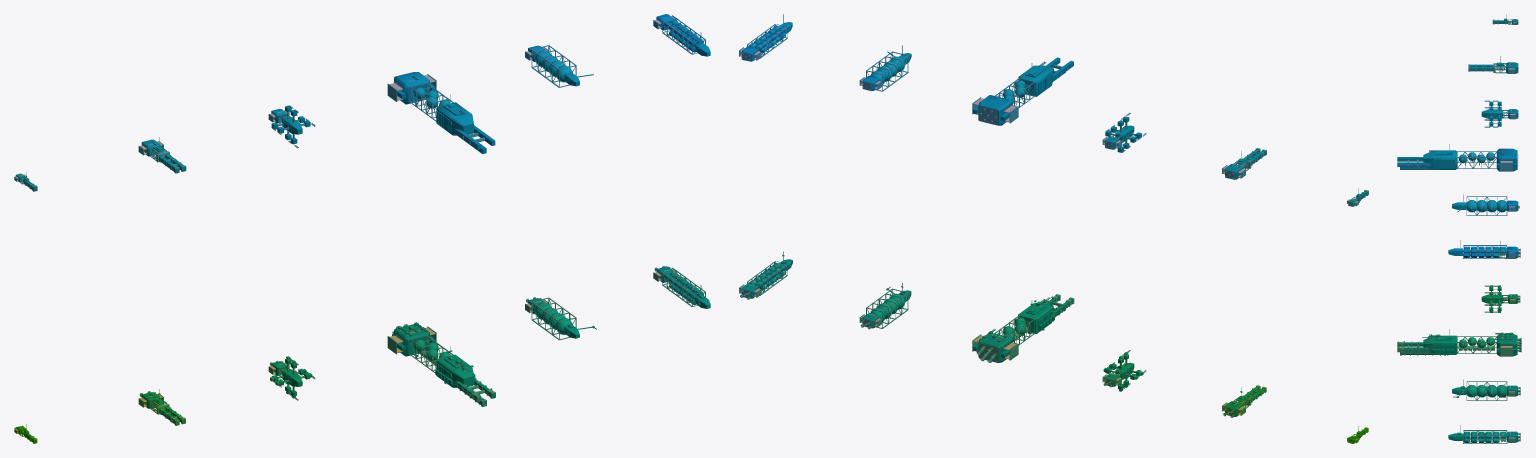
File: boreal-ships.glb
3 views of the same model, side by side, from view 1: azimuth 30°, elevation 25°; view 2: azimuth 150°, elevation 25°; view 3: azimuth 270°, elevation 25° (orthographic). The views are drawn at different scales.
Visible parts, largest first — view 1: boreal_ships; view 2: boreal_ships; view 3: boreal_ships.
Boxes of the visible parts, x1,y1,x2,y2 form: boreal_ships: (14,14,710,443); boreal_ships: (739,14,1368,443); boreal_ships: (1397,14,1521,443).
Bounding box in the file's own units: 8.18 × 3.48 × 1.82.
